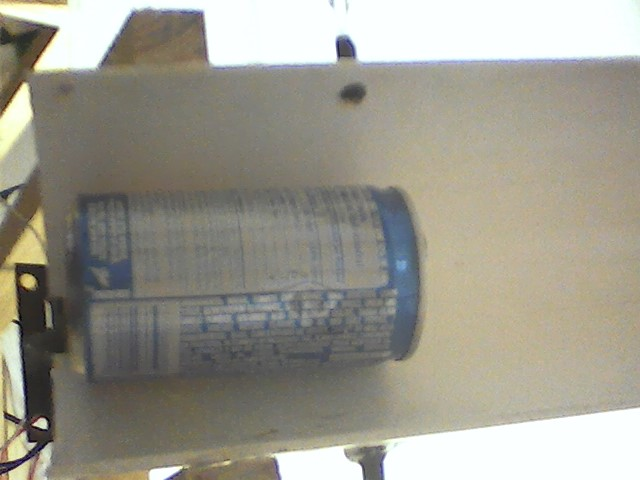lata: (59, 180, 434, 387)
